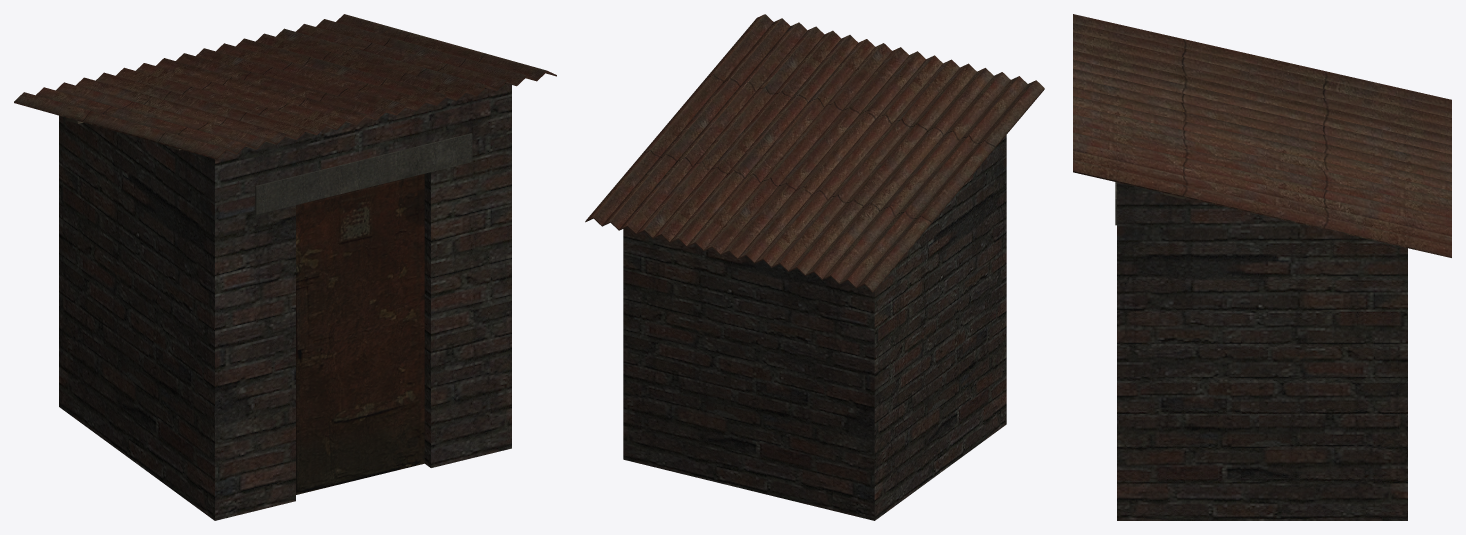
File: shed_ax_1.obj
The picture shows the model from 3 angles, left to right: view 1: azimuth 30°, elevation 25°; view 2: azimuth 150°, elevation 25°; view 3: azimuth 270°, elevation 25°; orthographic projection. The views are drawn at different scales.
Visible parts, largest first — view 1: shed_ax_1, door_hr_7; view 2: shed_ax_1; view 3: shed_ax_1.
Part boxes in pixels (x1,y1,x2,y2): shed_ax_1: [14, 14, 556, 520]; door_hr_7: [296, 174, 424, 494]; shed_ax_1: [585, 14, 1044, 520]; shed_ax_1: [1073, 14, 1451, 520].
Size of the model in its own units: 2.52 by 2.77 by 2.6.
